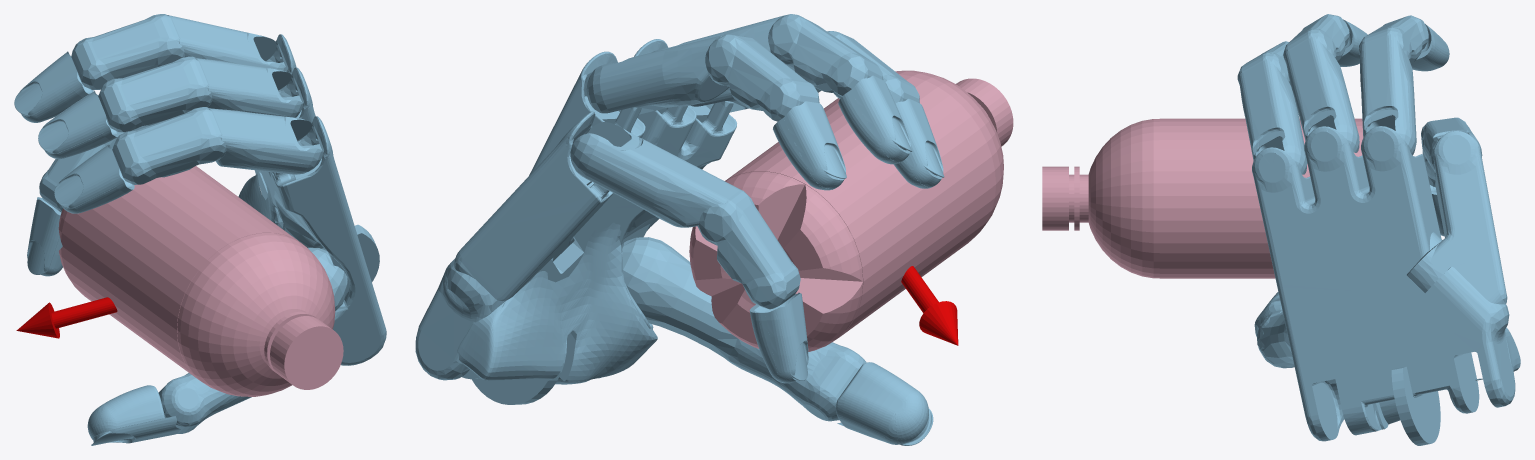
3 renders of one model, left to right at view 1: azimuth 30°, elevation 25°; view 2: azimuth 150°, elevation 25°; view 3: azimuth 270°, elevation 25°, orthographic. The views are drawn at different scales.
Parts seen in each view (by area): view 1: world, water_bottle.stl; view 2: world, water_bottle.stl; view 3: world, water_bottle.stl.
Part boxes in pixels (x1=…): world: x1=14, y1=14, x2=386, y2=445; water_bottle.stl: x1=58, y1=166, x2=343, y2=396; world: x1=415, y1=14, x2=958, y2=445; water_bottle.stl: x1=689, y1=70, x2=1013, y2=351; world: x1=1237, y1=14, x2=1520, y2=445; water_bottle.stl: x1=1042, y1=118, x2=1363, y2=278.
Bounding box in the file's own units: 0.1617 × 0.1433 × 0.18.
